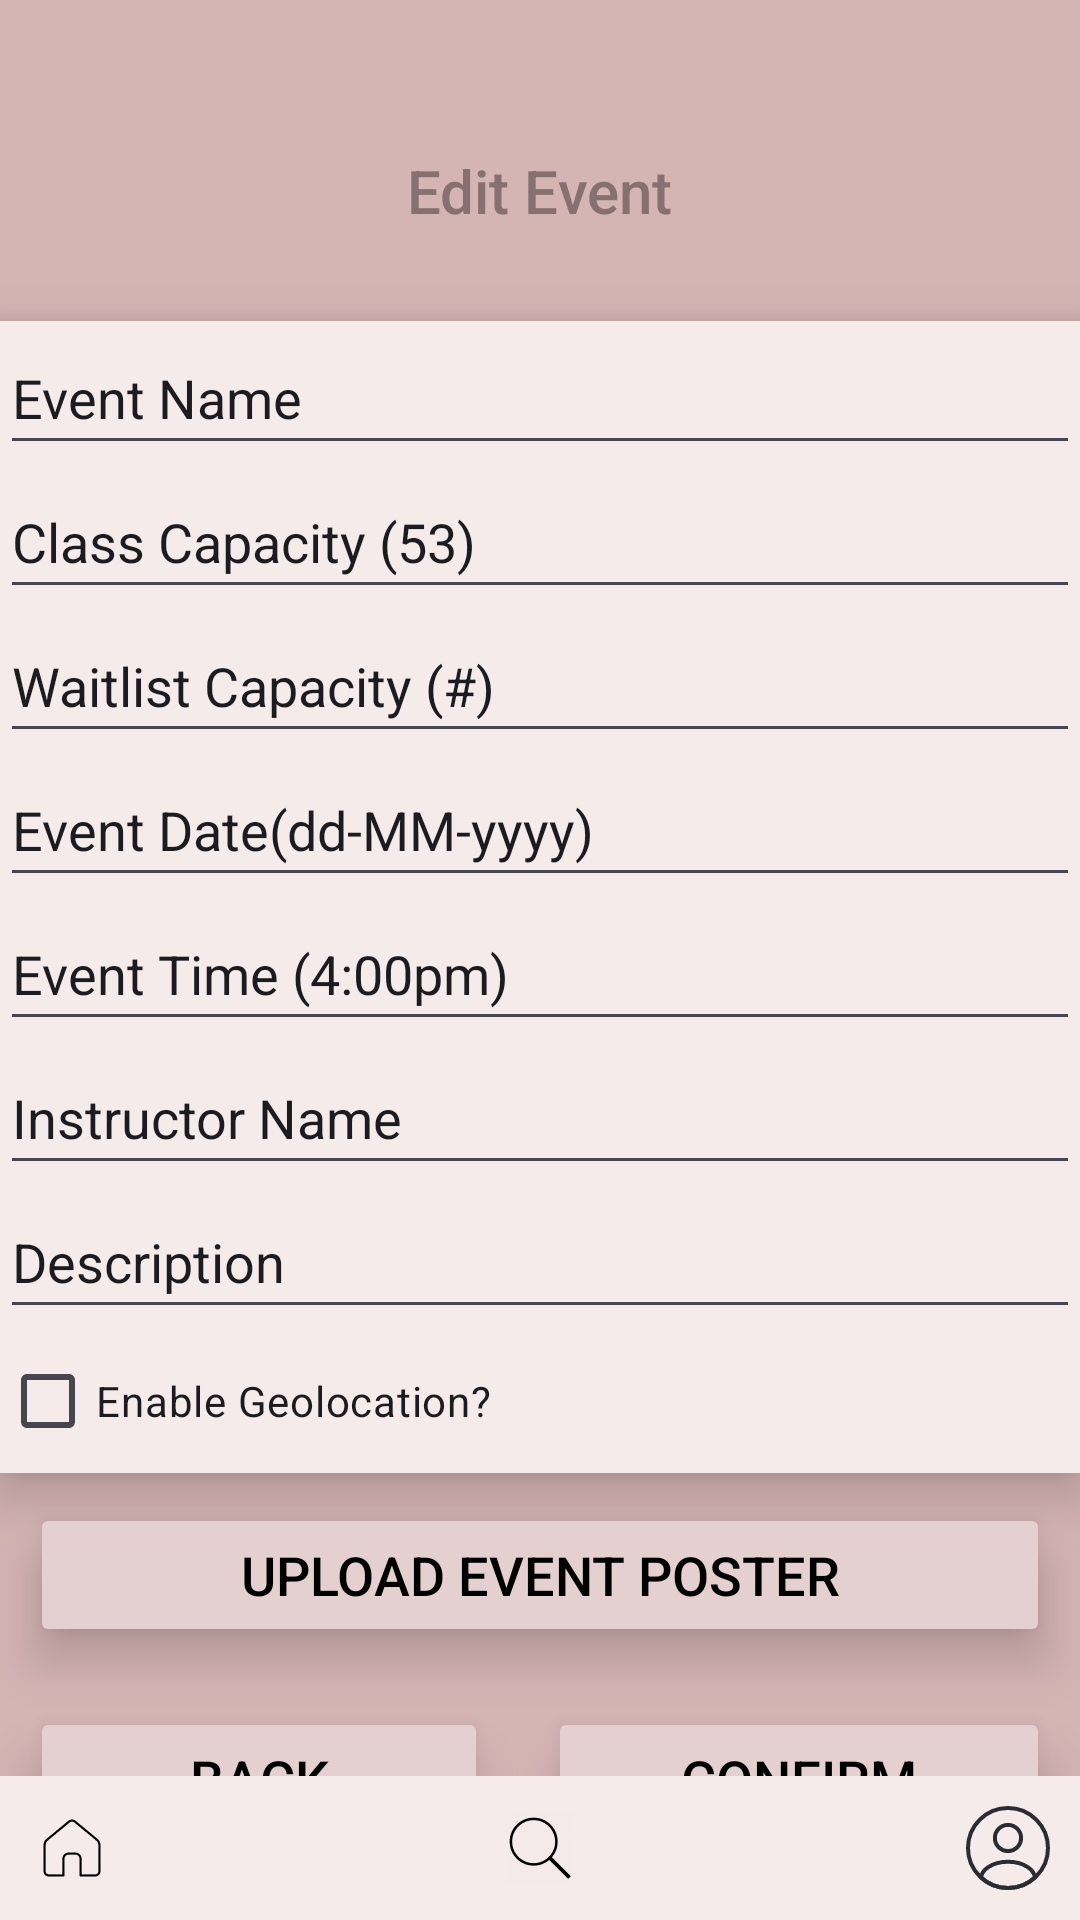

Icons on this 1080 x 1920 Android screen, each with its box as (x1, y1, x2, y2):
profile tiny: (966, 1806, 1050, 1890)
